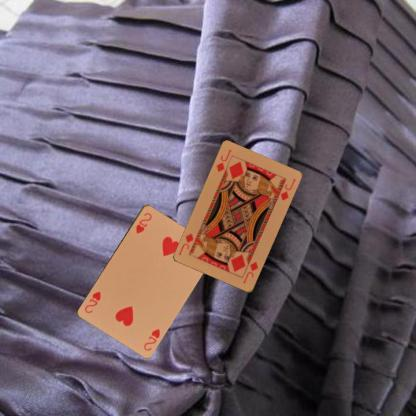2h: (141, 326, 162, 352), (133, 210, 153, 234)
Jd: (240, 259, 260, 285), (214, 148, 233, 174)
